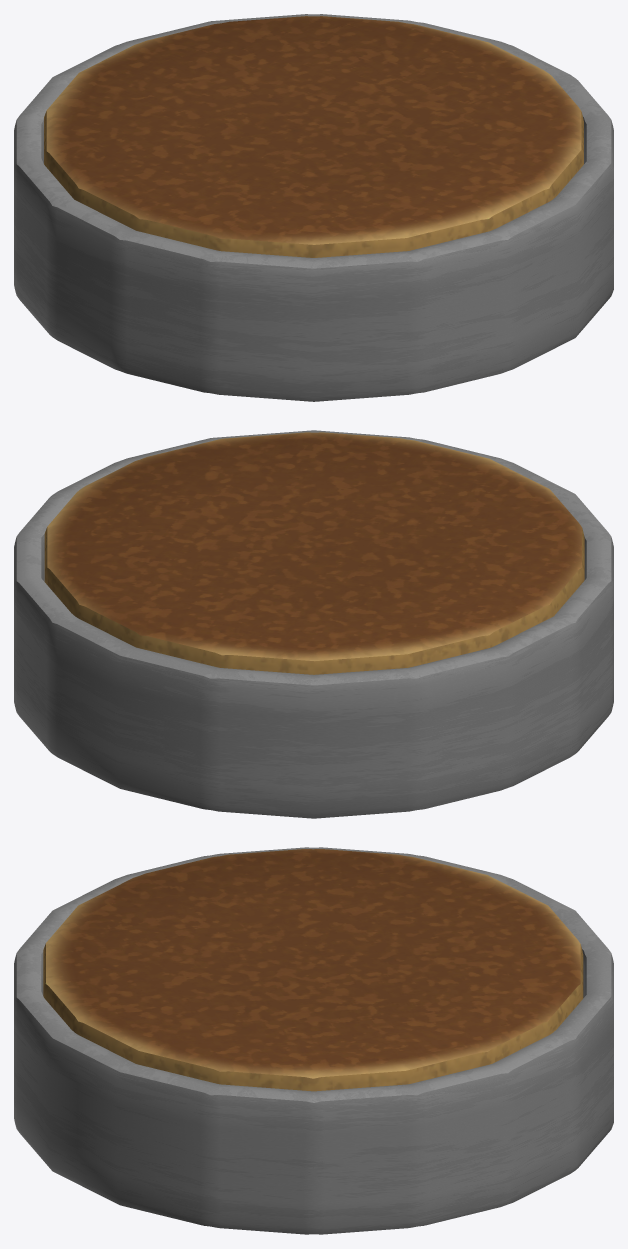
Rendered from cake tin group.fbx.
3 views of the same model, one above another, from view 1: azimuth 30°, elevation 25°; view 2: azimuth 150°, elevation 25°; view 3: azimuth 270°, elevation 25° (orthographic).
Visible parts, largest first — view 1: cooked cake, cake tin; view 2: cooked cake, cake tin; view 3: cooked cake, cake tin.
Boxes of the visible parts, <box> form: cooked cake: <box>44,16,583,257</box>; cake tin: <box>14,14,613,401</box>; cooked cake: <box>44,432,584,674</box>; cake tin: <box>14,430,613,818</box>; cooked cake: <box>43,849,583,1091</box>; cake tin: <box>14,847,613,1234</box>.
Size of the model in its own units: 39.88 by 10.81 by 39.39.
